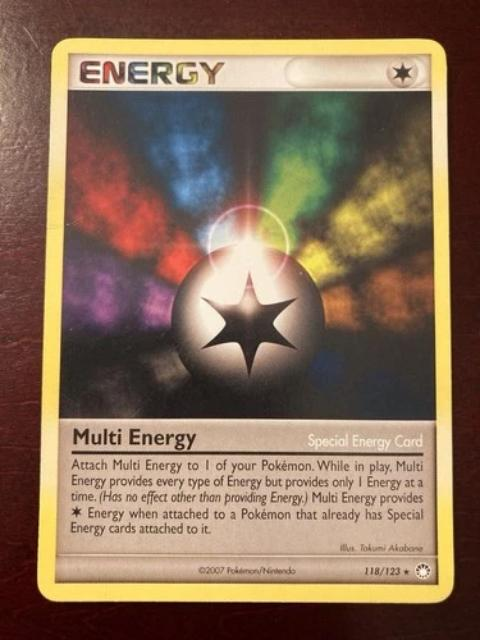Card: (31, 30, 460, 609)
Name: (65, 423, 204, 454)
